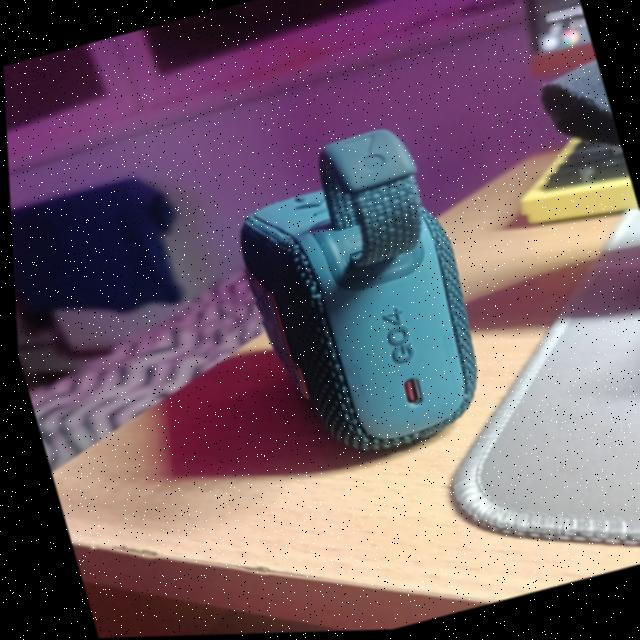column JBL: (238, 131, 472, 452)
